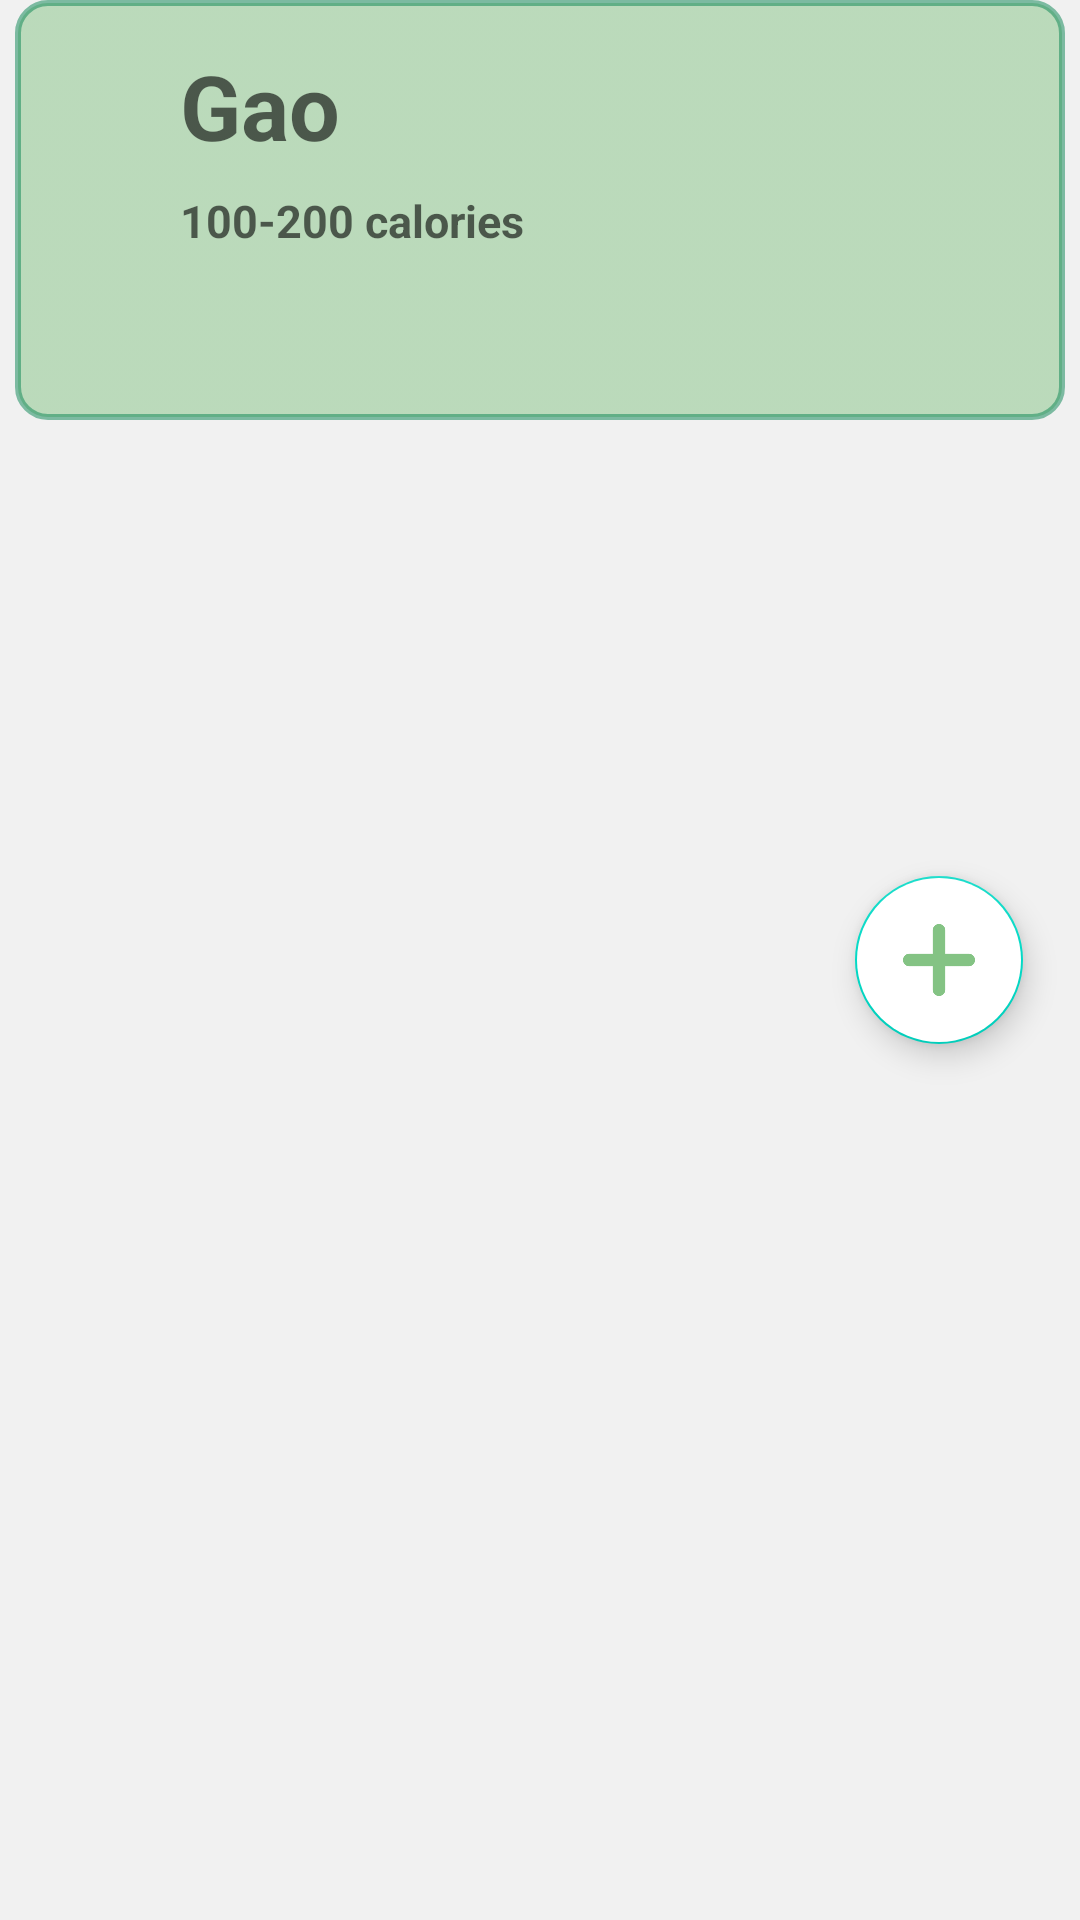

Icon bounding boxes for this 1080*1920 phone screenshot, format (x1, y1, x2, y2):
plus: (855, 876, 1023, 1044)
